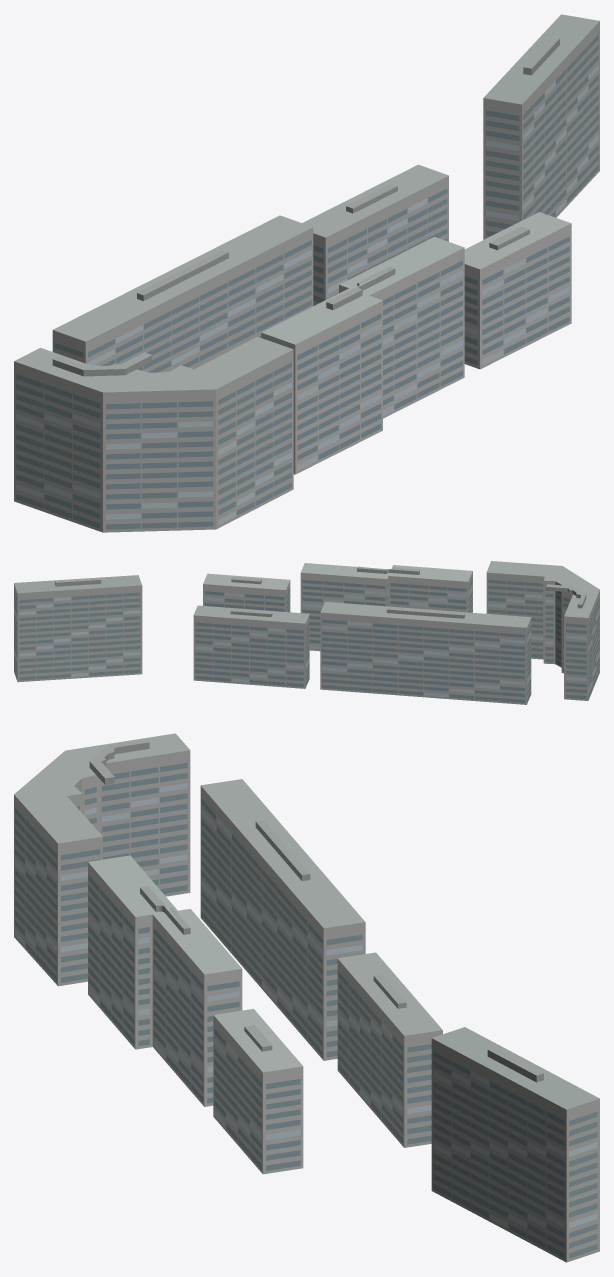
The model's file is apt-a14278101.glb.
The picture shows the model from 3 angles, top to bottom: view 1: azimuth 30°, elevation 25°; view 2: azimuth 150°, elevation 25°; view 3: azimuth 270°, elevation 25°; orthographic projection. The views are drawn at different scales.
Parts seen in each view (by area): view 1: apt-a14278101; view 2: apt-a14278101; view 3: apt-a14278101.
Boxes of the visible parts, x1=… form: apt-a14278101: x1=14, y1=14, x2=599, y2=532; apt-a14278101: x1=14, y1=561, x2=599, y2=704; apt-a14278101: x1=14, y1=733, x2=599, y2=1262.
Bounding box in the file's own units: 248 × 47.81 × 159.
